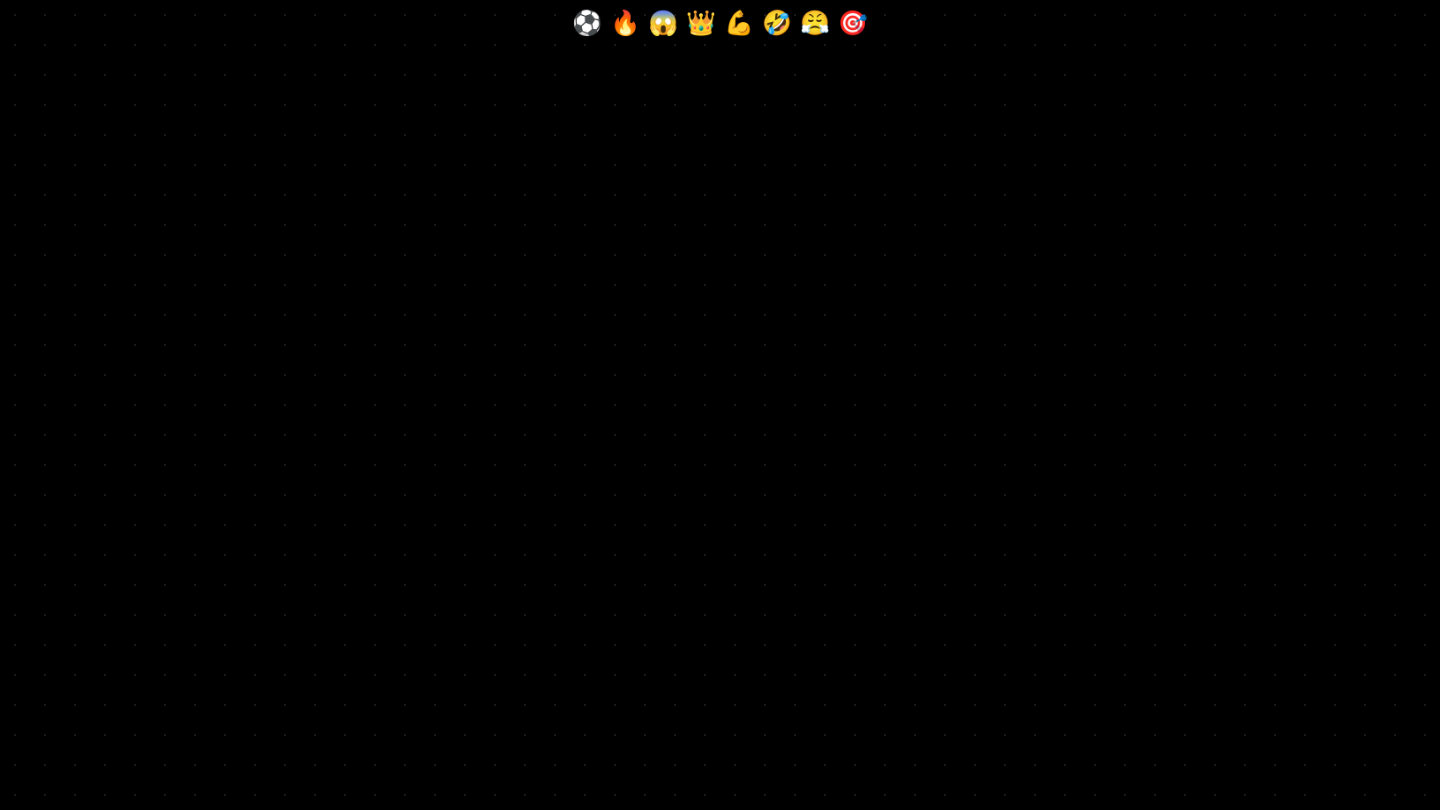
MatchReactions › envio › botões ficam disabled durante cooldown
The image size is (1440, 810).
Click the button "💪": (739, 24) [724, 8, 754, 40]
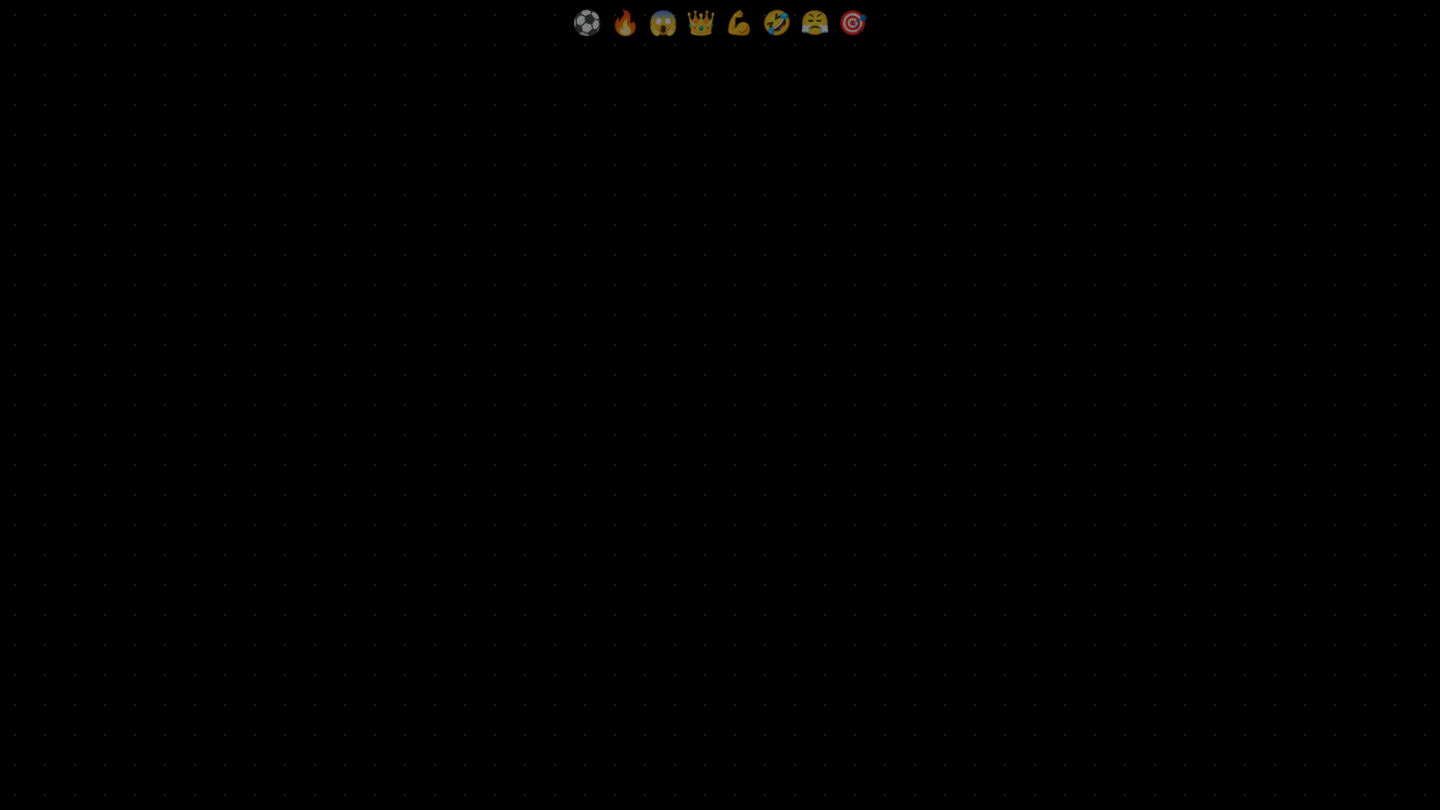
Check: the button "⚽" is disabled, box [572, 8, 602, 40]
Check: the button "🔥" is disabled, box [610, 8, 640, 40]
Check: the button "😱" is disabled, box [648, 8, 678, 40]
